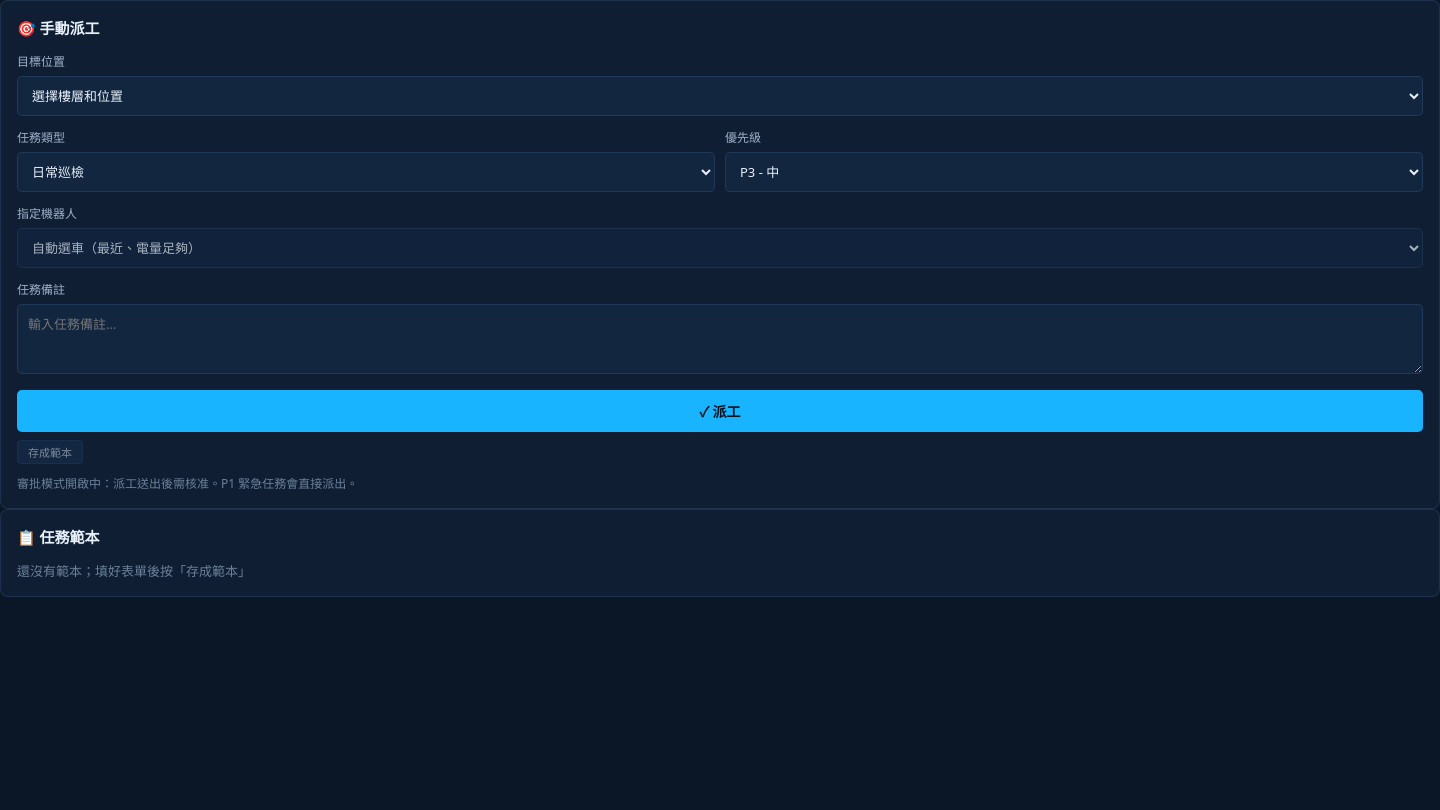
Test: 手動派工與任務範本（T-20） › 「在地圖上點選…」開啟平面圖取座標
Select "1F 辦公室 - 在地圖上點選…" in the dropdown labelled "目標位置" at (720, 96), box [17,76,1423,116]
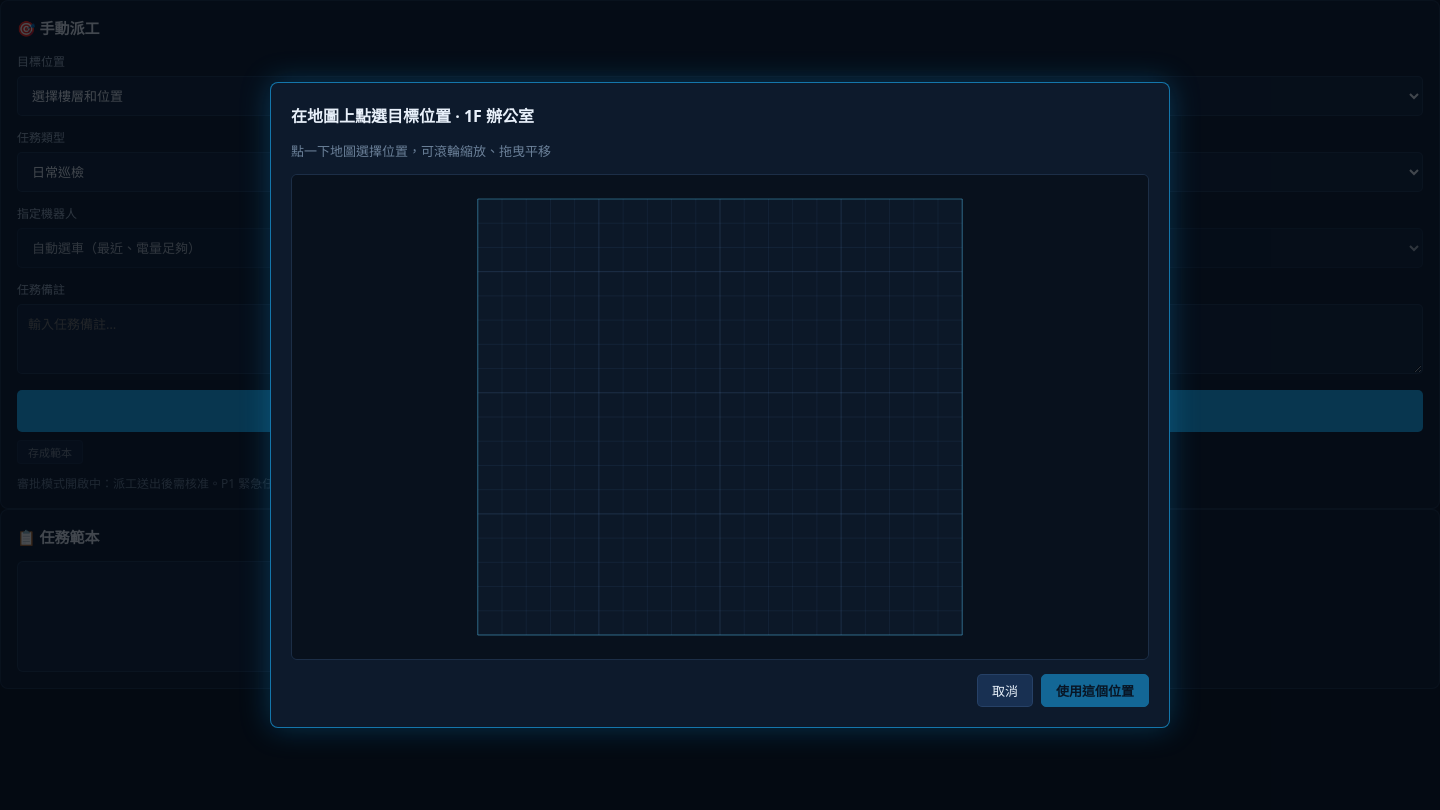
Result: the button "使用這個位置" is disabled at [1041,674,1149,707]
